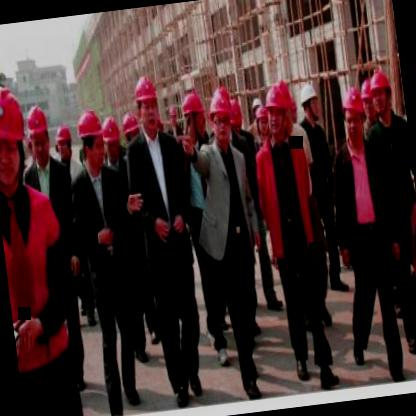helmet: (0, 85, 34, 190), (130, 70, 166, 136), (74, 105, 108, 172), (23, 102, 54, 164), (338, 83, 370, 141), (179, 84, 210, 141), (206, 86, 236, 144), (364, 66, 396, 120), (262, 78, 290, 137), (295, 76, 324, 126), (98, 112, 124, 164), (119, 105, 142, 150), (251, 99, 272, 144), (227, 95, 248, 138), (53, 122, 74, 162)
